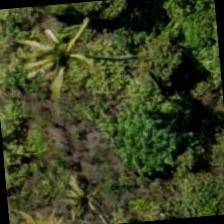Kelapa_Sawit: (11, 0, 108, 98), (47, 152, 144, 223)
